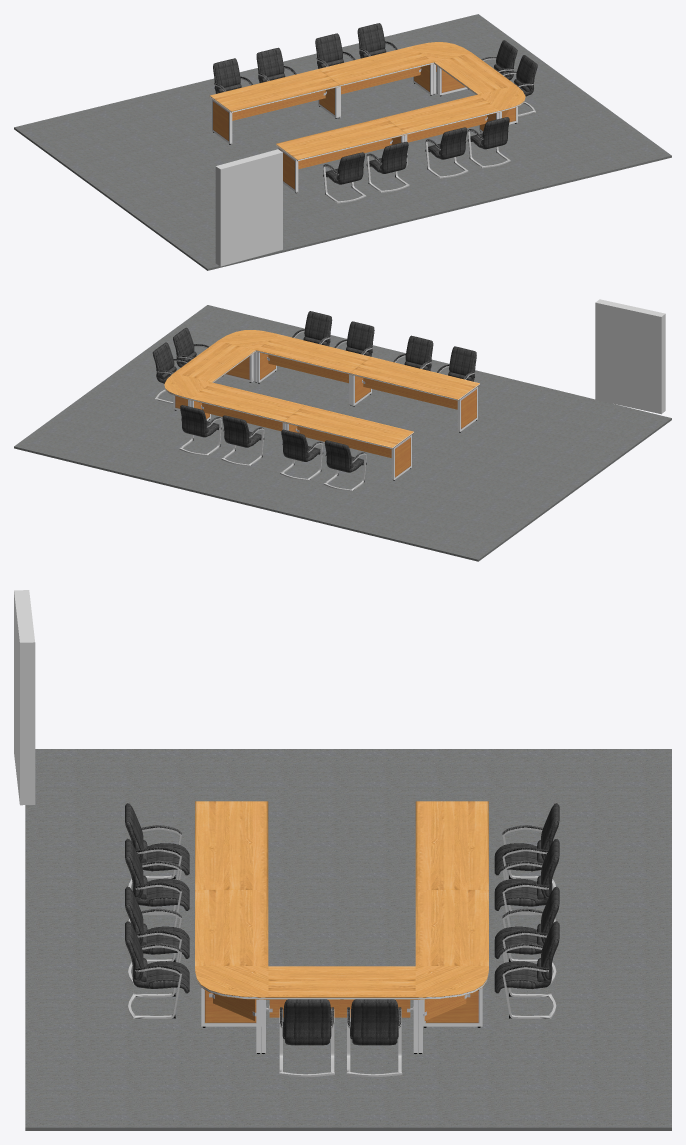
Rendered from interview_venue0519.FBX.
The picture shows the model from 3 angles, top to bottom: view 1: azimuth 30°, elevation 25°; view 2: azimuth 150°, elevation 25°; view 3: azimuth 270°, elevation 25°; orthographic projection. The views are drawn at different scales.
Visible parts, largest first — view 1: Box001, Box060, Line002, Line001, chair009, chair007, chair008, chair006, chair003, chair004, chair001, chair002 (+11 smaller); view 2: Box001, Box060, Line001, Line002, chair004, chair002, chair003, chair001, Box048, chair008, chair006, chair007 (+11 smaller); view 3: Box001, Line001, Line002, Box060, chair005, chair, chair006, chair001, chair003, chair008, chair002, chair007 (+4 smaller).
Boxes of the visible parts, x1,y1,x2,y2 form: Box001: (14,14,671,270); Box060: (215,149,282,266); Line002: (276,69,525,161); Line001: (209,42,493,112); chair009: (323,152,366,203); chair007: (425,127,468,178); chair008: (366,141,409,192); chair006: (467,117,510,168); chair003: (256,47,296,82); chair004: (213,58,253,93); chair001: (357,23,397,58); chair002: (315,33,355,68); Box001: (14,305,671,561); Box060: (595,299,665,414); Line001: (164,357,413,449); Line002: (196,330,479,400); chair004: (323,440,366,491); chair002: (221,415,264,466); chair003: (280,429,323,480); chair001: (179,405,221,456); Box048: (363,378,457,409); chair008: (393,335,433,370); chair006: (292,311,332,346); chair007: (334,321,374,356); Box001: (25,749,671,1130); Line001: (342,801,488,999); Line002: (195,801,341,999); Box060: (14,590,35,805); chair005: (279,999,334,1077); chair: (346,999,402,1077); chair006: (125,921,189,1018); chair001: (494,921,559,1018); chair003: (494,839,559,927); chair008: (125,838,189,927); chair002: (494,887,559,984); chair007: (125,886,189,984).
Size of the model in its own units: 125 by 26.13 by 91.77.
Materials: 6 (6 with a texture image).
